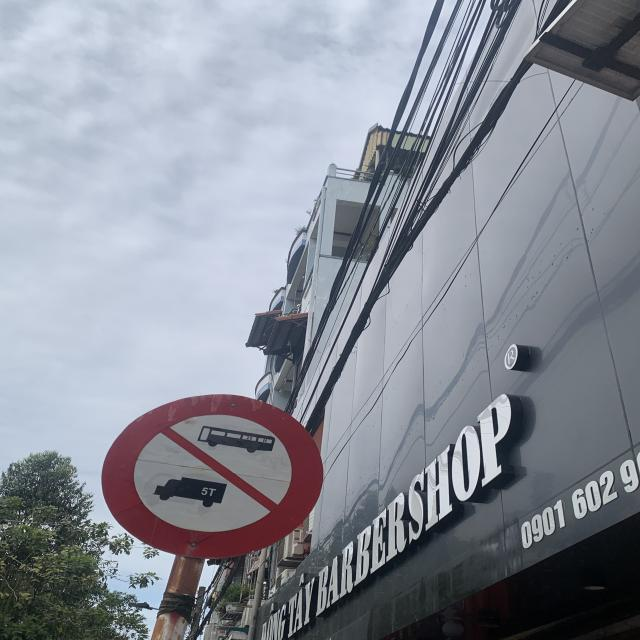Cam_XeTai_XeKhach: (99, 393, 323, 558)
